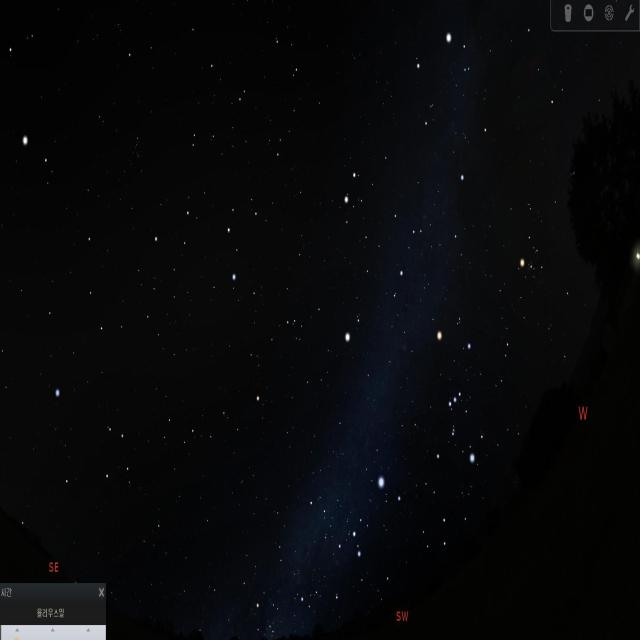canis_major: (346, 460, 414, 568)
canis_minor: (342, 308, 367, 365)
gemini: (331, 156, 426, 292)
leo: (150, 183, 261, 296)
orion: (430, 320, 483, 481)
pleiades: (571, 166, 582, 187)
taurus: (510, 145, 590, 297)
